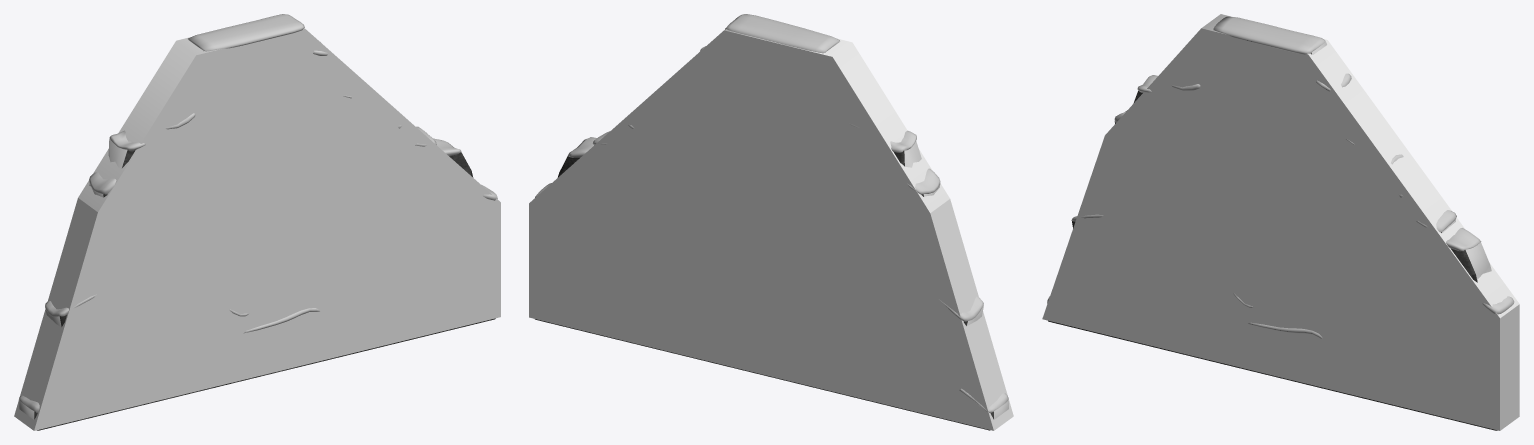
File: Wall-Small.fbx
The picture shows the model from 3 angles, left to right: view 1: azimuth 30°, elevation 25°; view 2: azimuth 150°, elevation 25°; view 3: azimuth 330°, elevation 25°; orthographic projection.
Parts seen in each view (by area): view 1: wall-small_col, snow, wall-small; view 2: wall-small_col, snow, wall-small; view 3: wall-small_col, snow, wall-small.
Part boxes in pixels (<box>): wall-small_col: <box>14,28,500,430</box>; snow: <box>18,14,497,412</box>; wall-small: <box>19,40,495,430</box>; wall-small_col: <box>529,29,1013,430</box>; snow: <box>535,14,1008,412</box>; wall-small: <box>535,27,1008,430</box>; wall-small_col: <box>1042,14,1519,430</box>; snow: <box>1047,16,1514,338</box>; wall-small: <box>1047,28,1497,430</box>.
Size of the model in its own units: 165 by 116 by 13.41.
